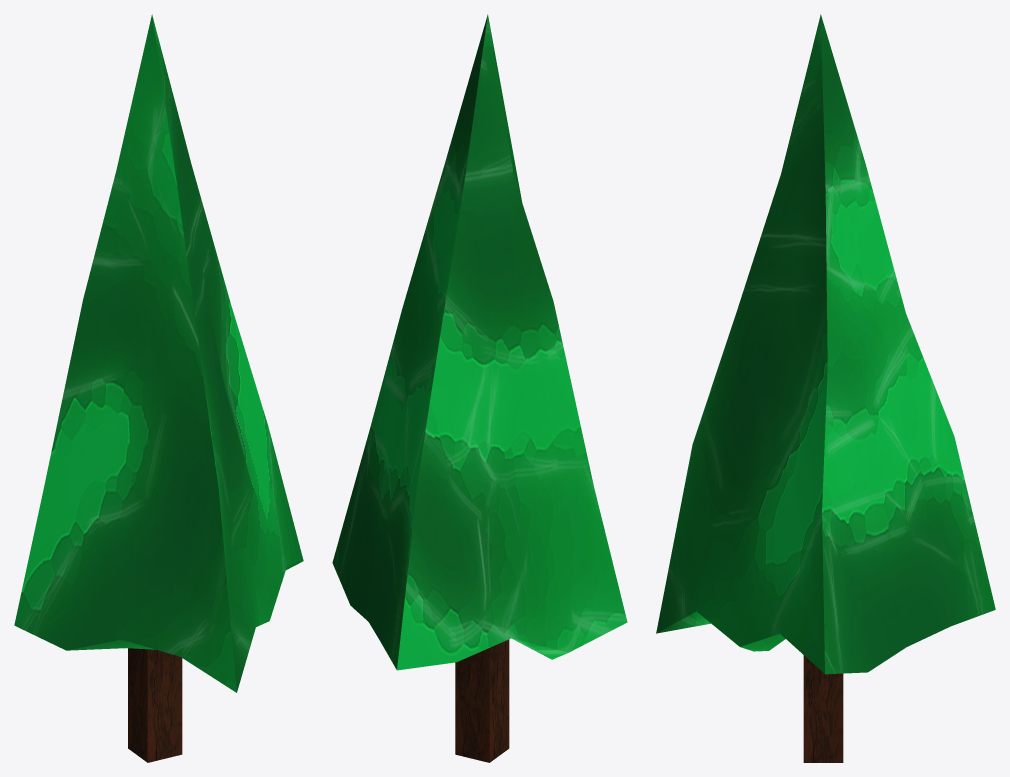
Rendered from pinetree2.fbx.
The picture shows the model from 3 angles, left to right: view 1: azimuth 30°, elevation 25°; view 2: azimuth 150°, elevation 25°; view 3: azimuth 270°, elevation 25°; orthographic projection.
Parts seen in each view (by area): view 1: polymsh; view 2: polymsh; view 3: polymsh.
Boxes of the visible parts, x1=… form: polymsh: x1=14, y1=14, x2=303, y2=762; polymsh: x1=332, y1=14, x2=627, y2=762; polymsh: x1=656, y1=14, x2=995, y2=762.
Bounding box in the file's own units: 31.64 × 76.4 × 31.85.
